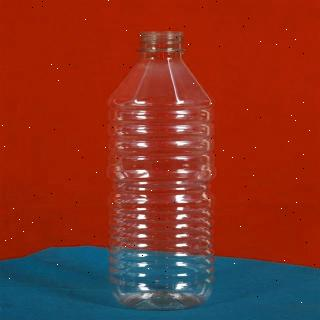Plastic-bottle: (96, 26, 227, 312)
